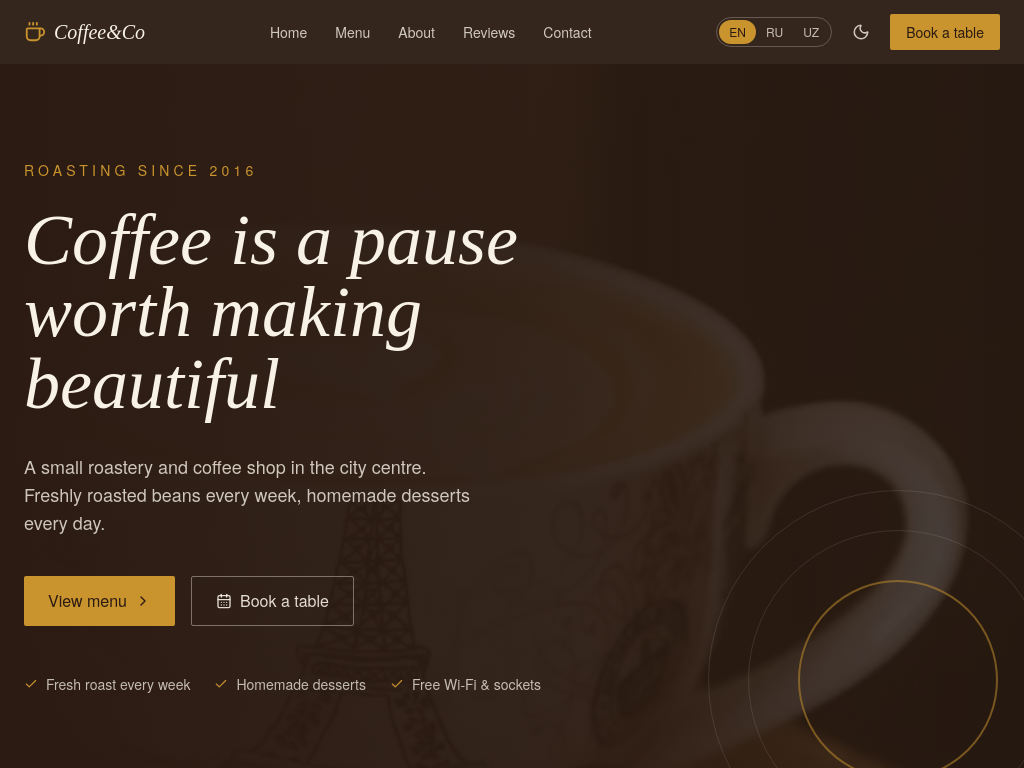
Test case: Booking form: slot capacity › asks for another time when the slot was taken a moment ago
The image size is (1024, 768).
Click the 1st button "Book a table" at x=945, y=32, box x1=890 y1=14 x2=1000 y2=50
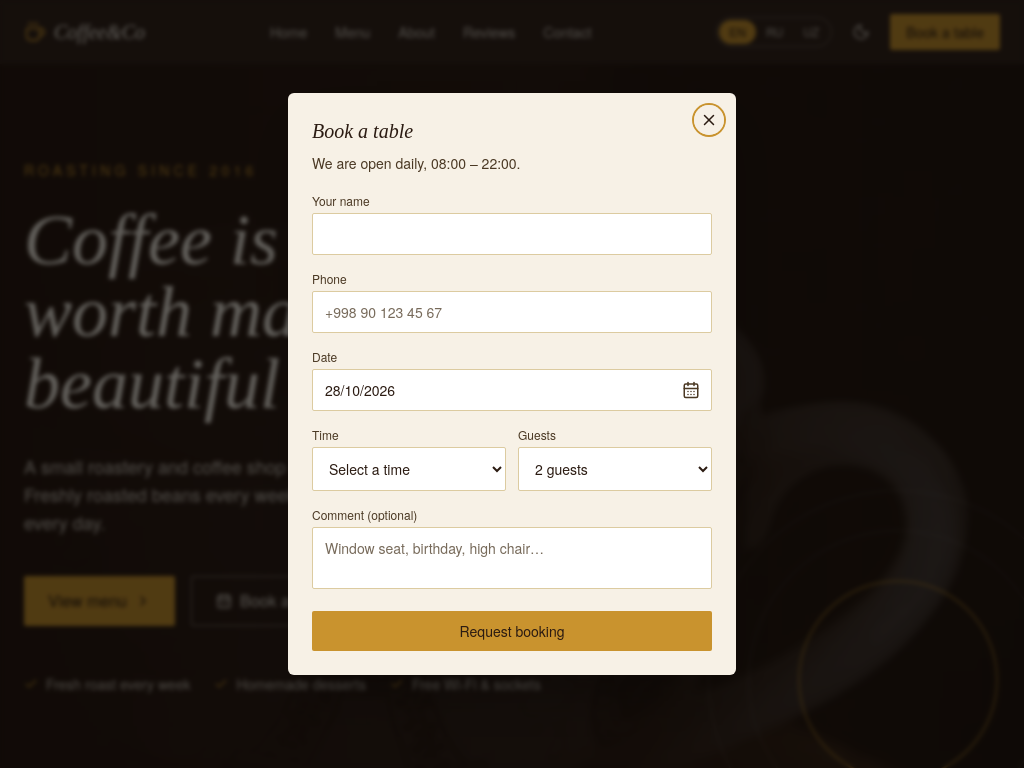
Type "Madina" into the field labelled "Your name" at x=512, y=234, box x1=312 y1=213 x2=712 y2=255
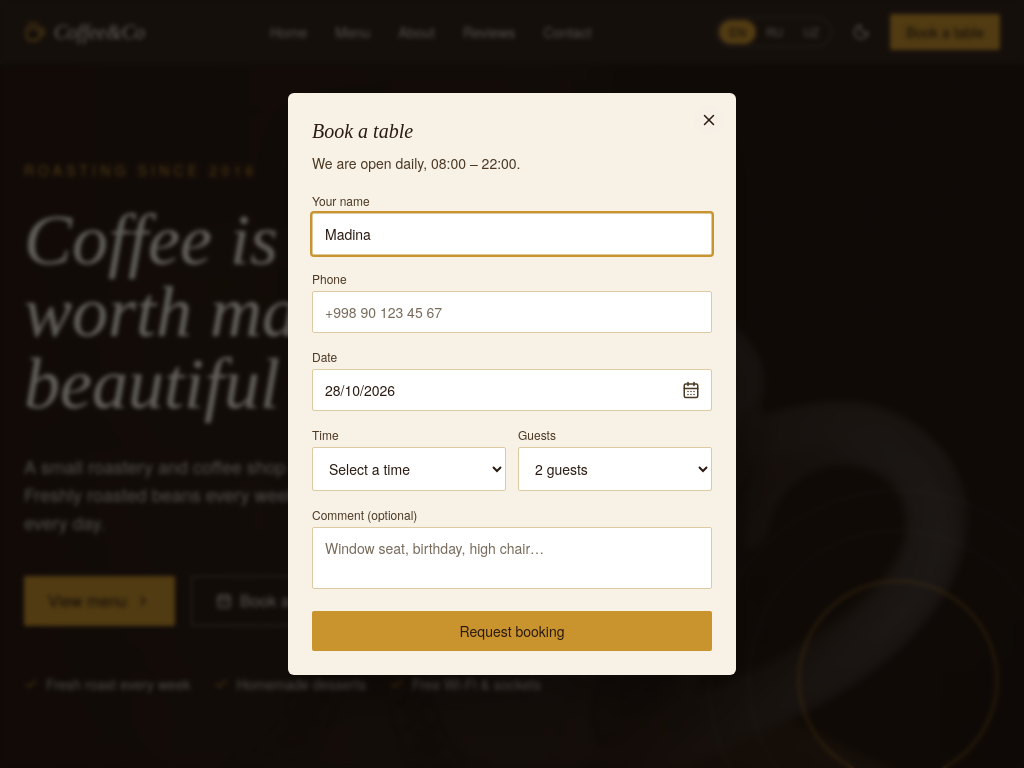
Type "901234567" into the field labelled "Phone" at x=512, y=312, box x1=312 y1=291 x2=712 y2=333
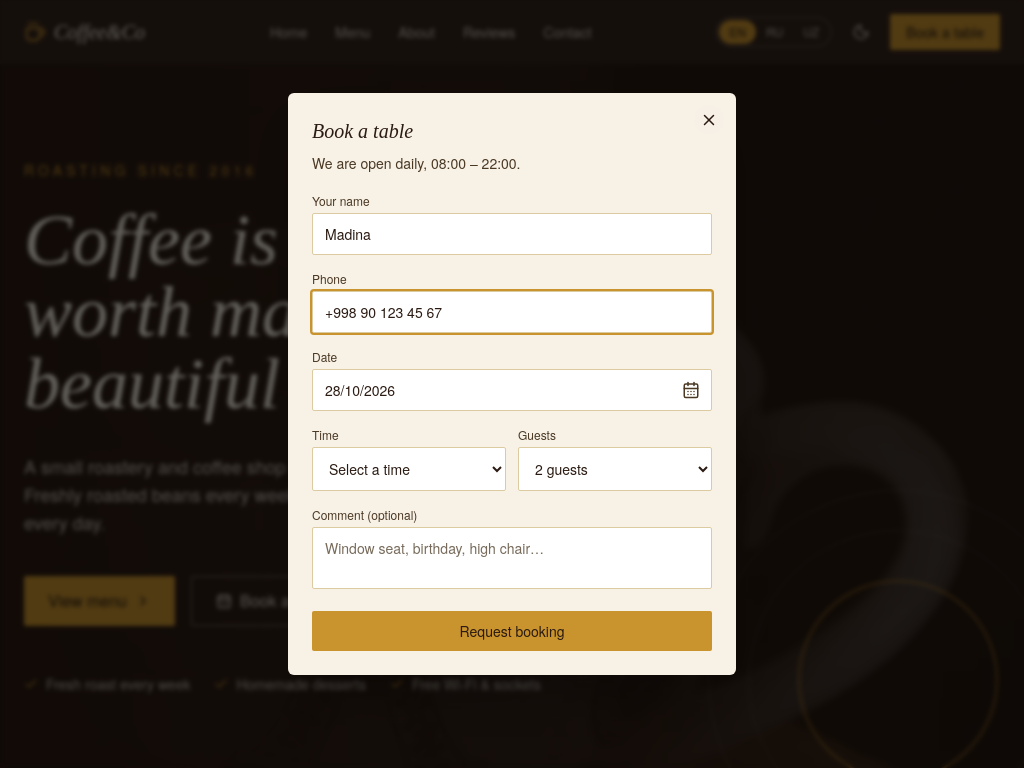
Select "21:00" in the dropdown labelled "Time" at x=409, y=469, box x1=312 y1=447 x2=506 y2=491
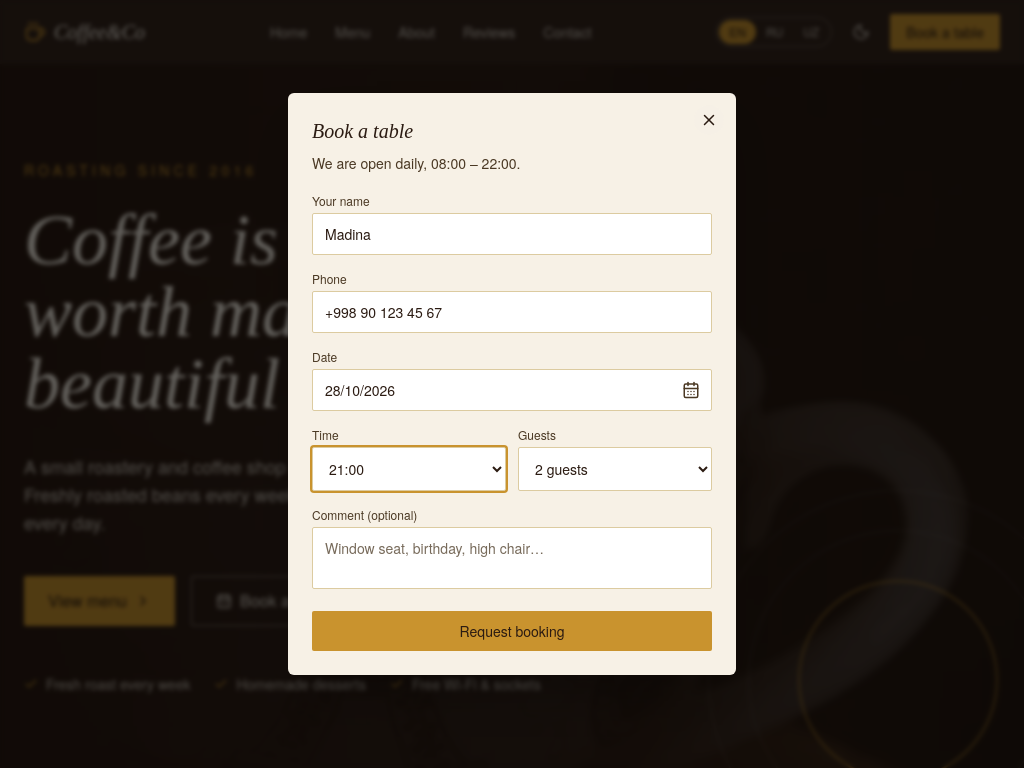
Click the button "Request booking" at x=512, y=631, box x1=312 y1=611 x2=712 y2=651
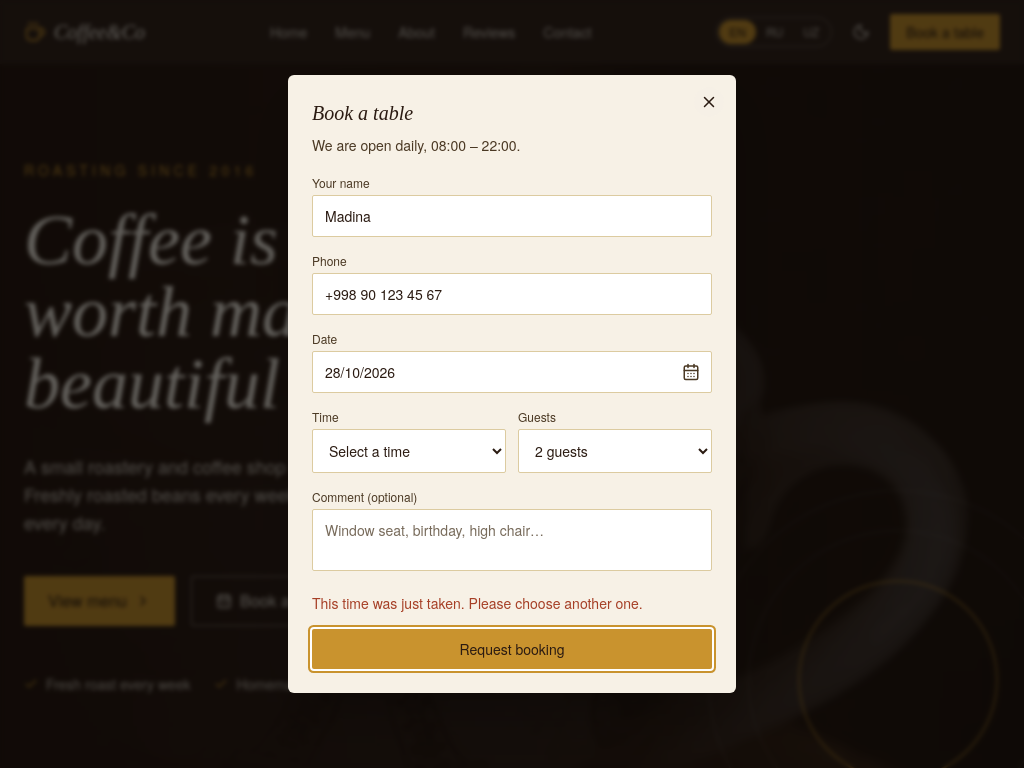
Result: the message reads "This time was just taken. Please choose another one." at x1=312 y1=593 x2=643 y2=613
